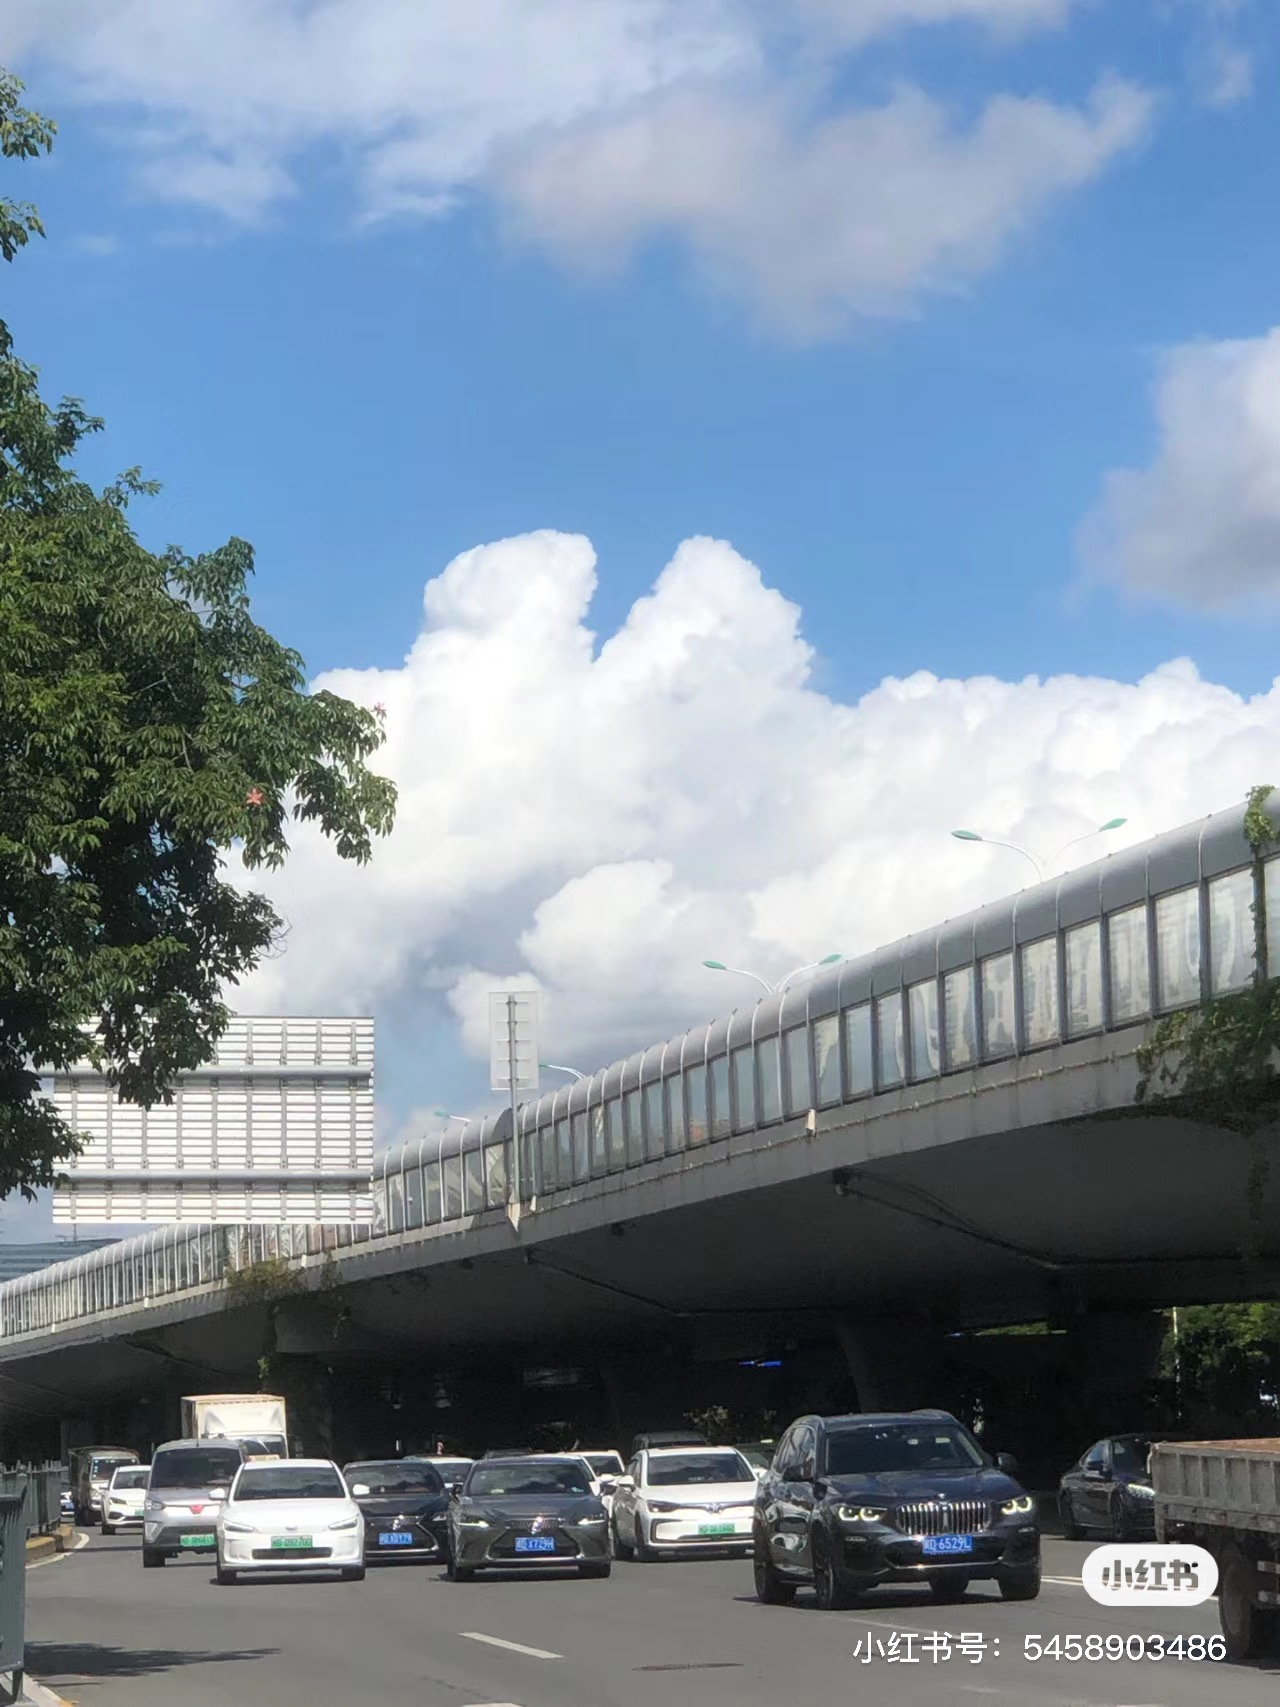Cumulus: (258, 493, 1241, 970)
